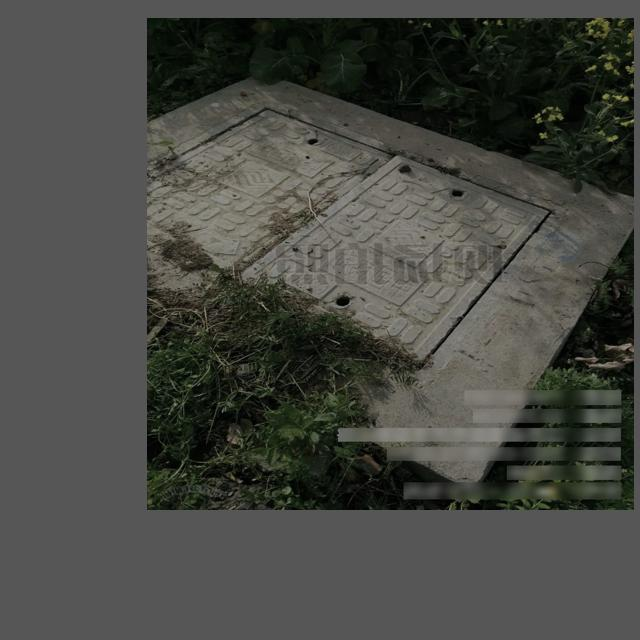uncovered: (147, 102, 565, 379)
